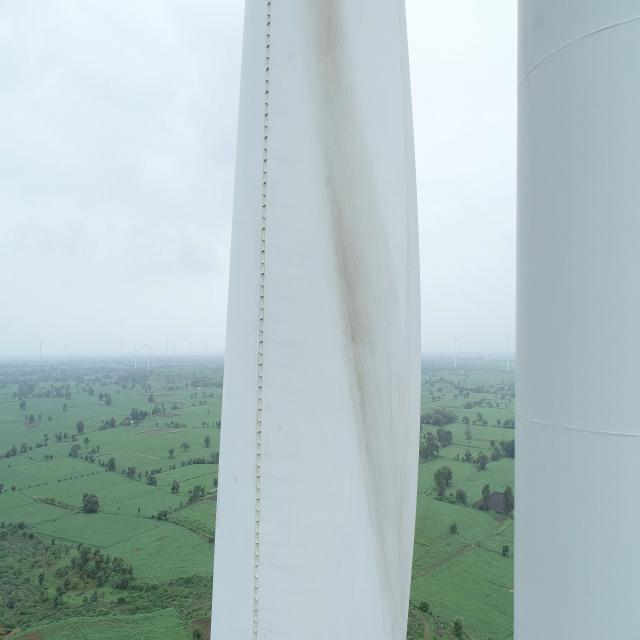Dirt: (287, 0, 424, 640)
